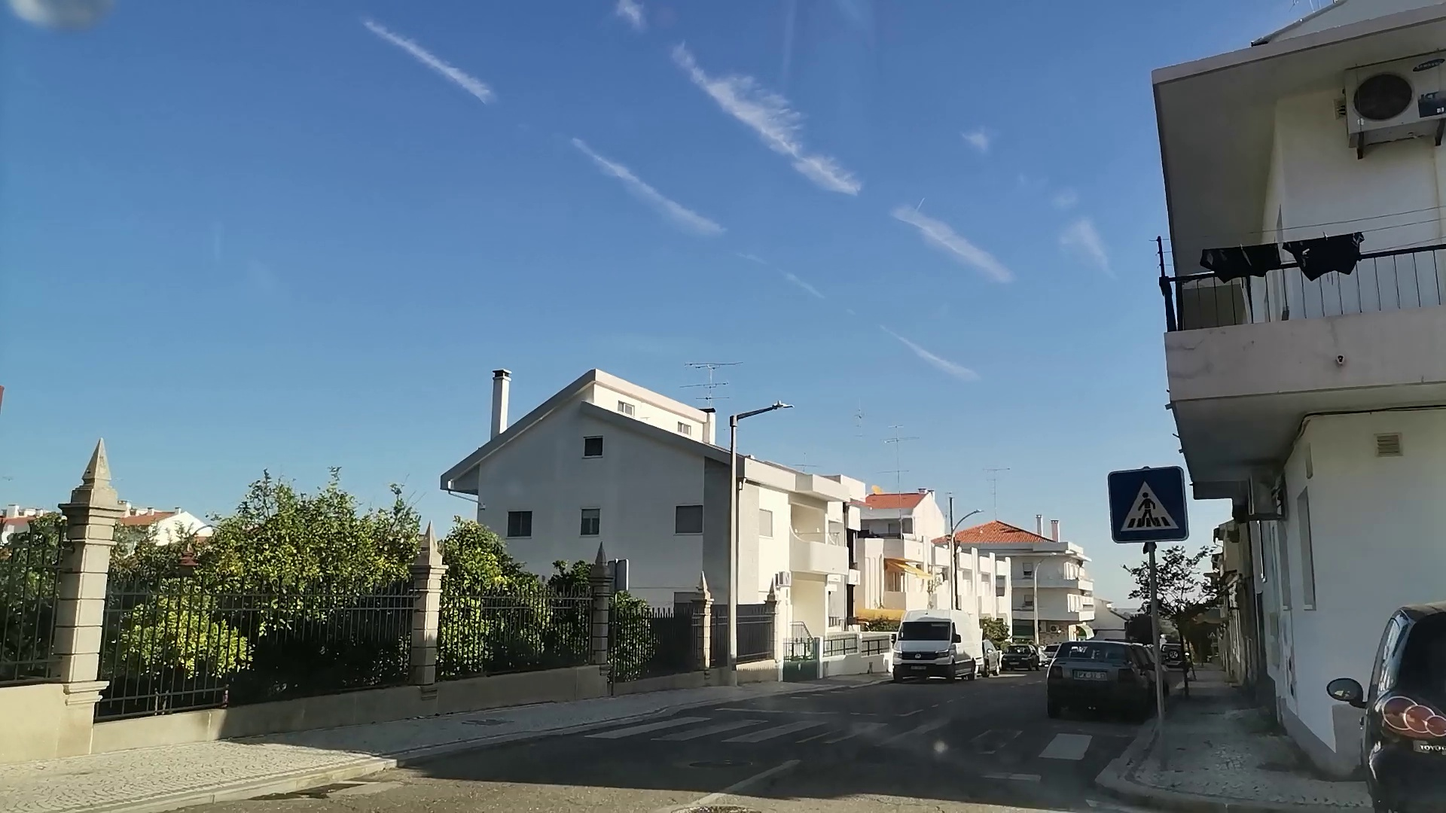Stairs: (582, 708, 1105, 739)
